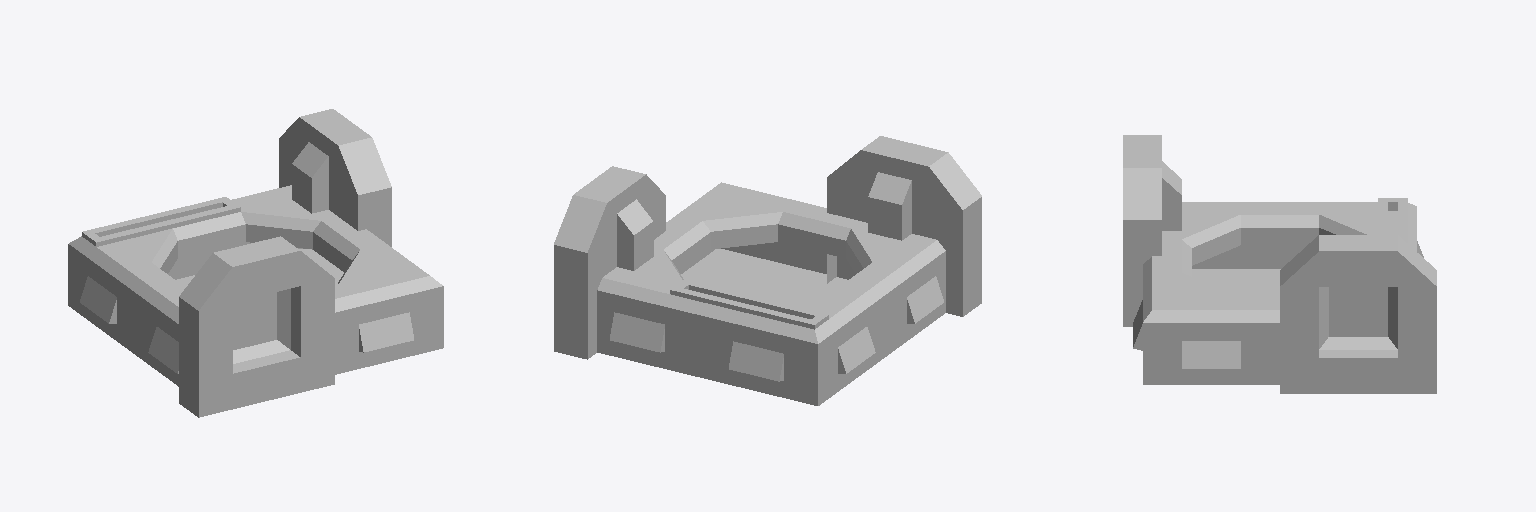
The model's file is centrifuge_body.obj.
3 renders of one model, left to right at view 1: azimuth 30°, elevation 25°; view 2: azimuth 150°, elevation 25°; view 3: azimuth 270°, elevation 25°, orthographic.
Visible parts, largest first — view 1: CENTRIFUGE_BODY_Cube.013; view 2: CENTRIFUGE_BODY_Cube.013; view 3: CENTRIFUGE_BODY_Cube.013.
Part boxes in pixels (x1,y1,x2,y2): CENTRIFUGE_BODY_Cube.013: (68,109,443,417); CENTRIFUGE_BODY_Cube.013: (554,136,981,405); CENTRIFUGE_BODY_Cube.013: (1123,135,1436,393).
Size of the model in its own units: 2 by 1 by 2.